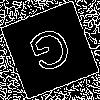G: (25, 25, 79, 83)
